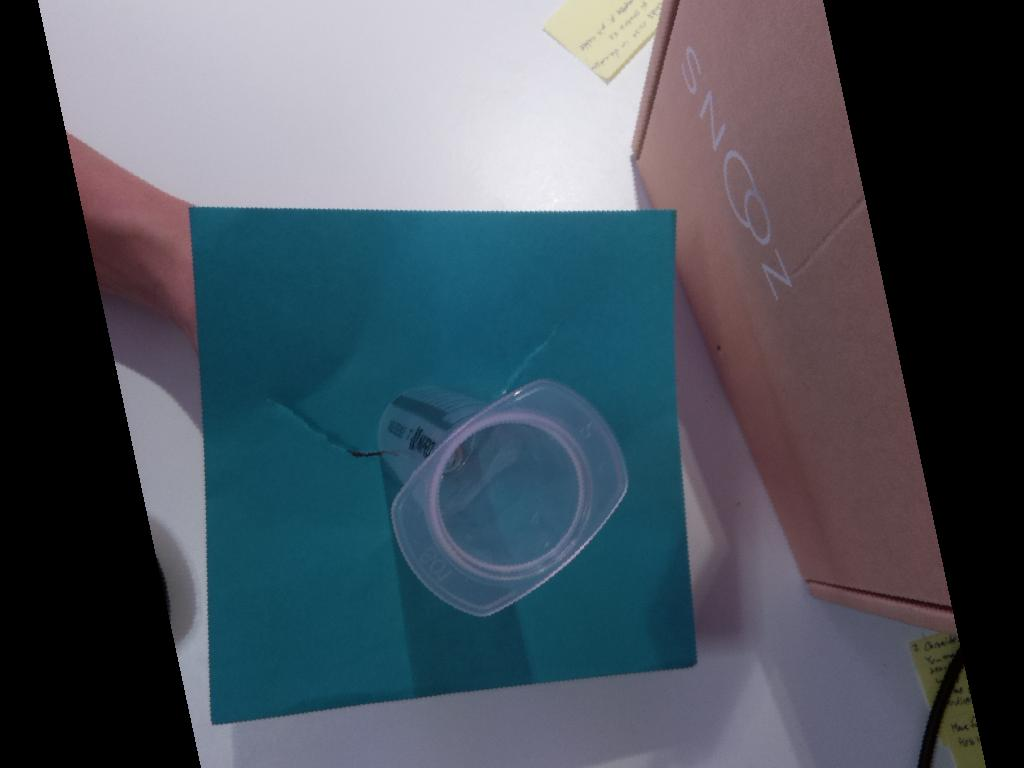clean: (390, 375, 631, 618)
